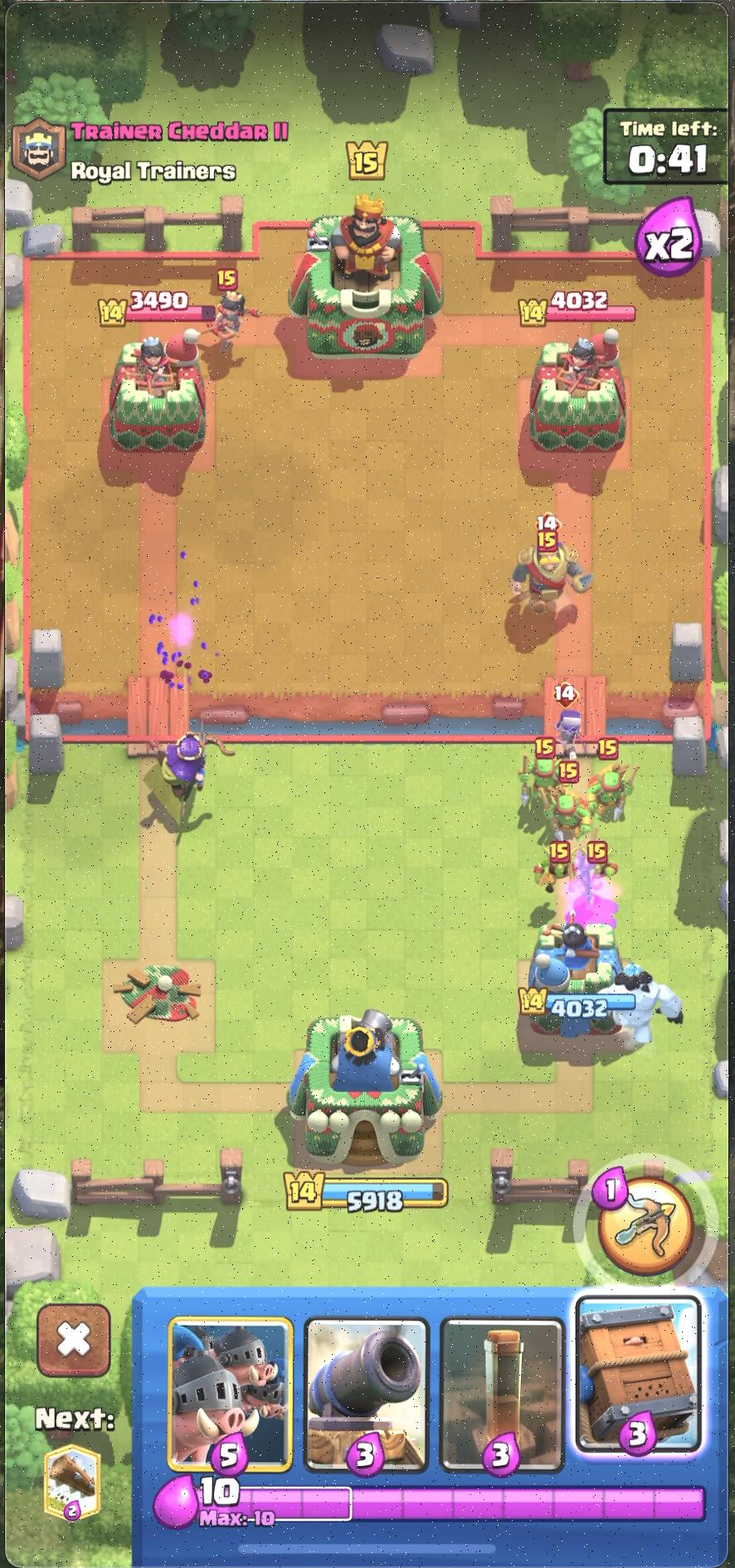card_cannon: (304, 1314, 431, 1477)
card_earthquake: (440, 1314, 562, 1474)
card_log: (41, 1441, 103, 1524)
card_royaldelivery: (571, 1287, 708, 1474)
card_royalhogs: (166, 1312, 295, 1476)
